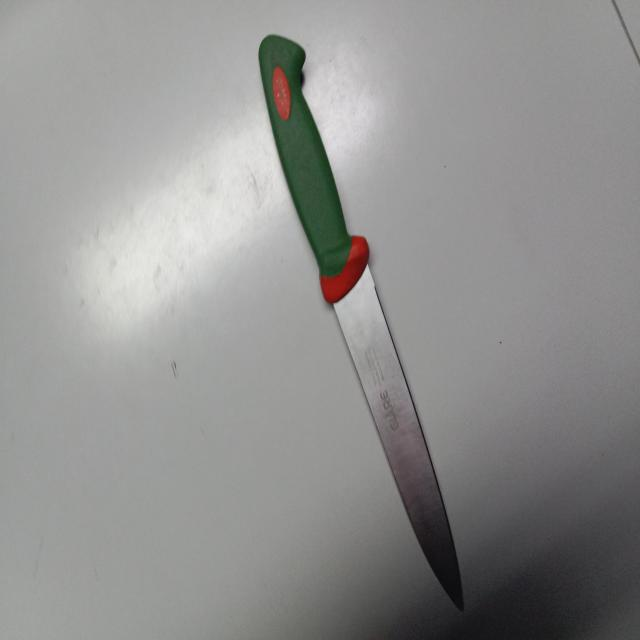Knife: (259, 34, 464, 611)
